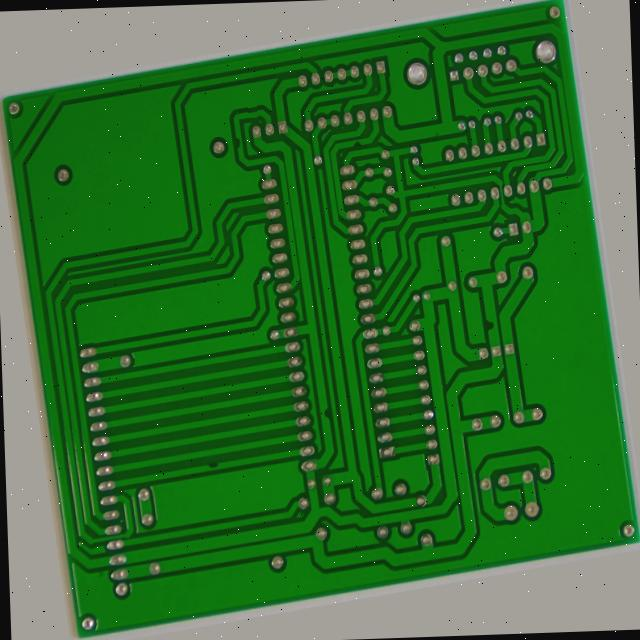mouse_bite: (498, 340, 512, 364), (176, 460, 197, 475), (309, 414, 321, 437), (247, 96, 257, 117), (372, 121, 388, 134)
